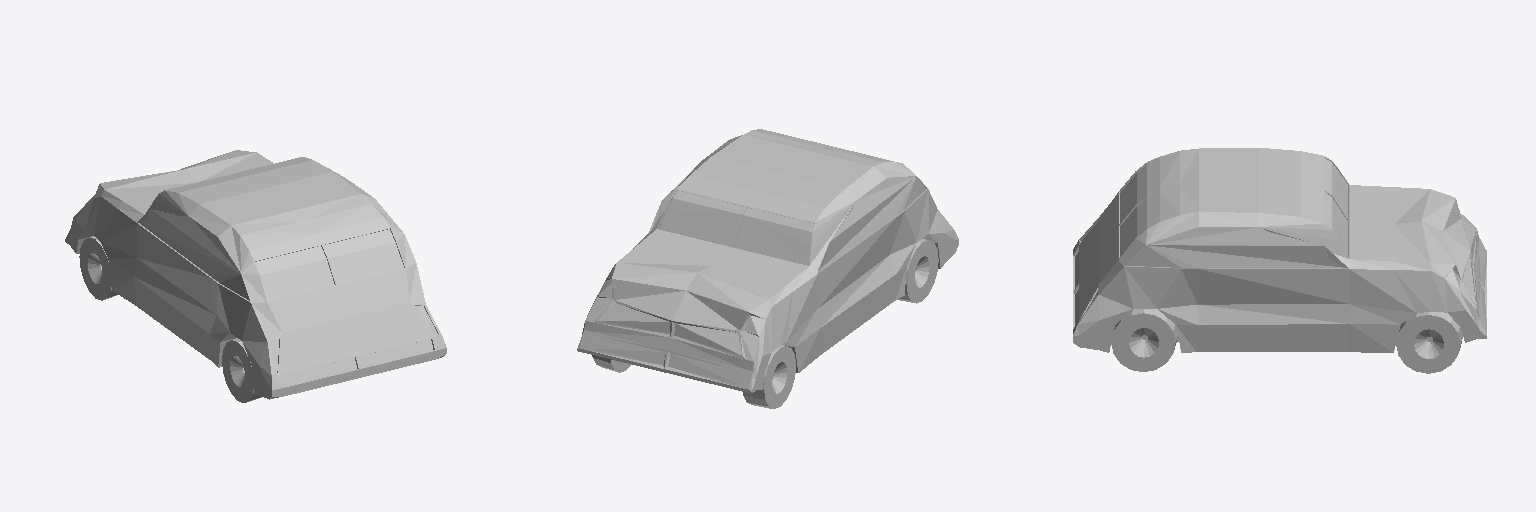
The model's file is car_enj_no_mirror.obj.
The picture shows the model from 3 angles: view 1: azimuth 30°, elevation 25°; view 2: azimuth 150°, elevation 25°; view 3: azimuth 270°, elevation 25°; orthographic projection.
Visible parts, largest first — view 1: Cube; view 2: Cube; view 3: Cube.
Part boxes in pixels (left/top/right/bottom): Cube: left=65, top=150, right=446, bottom=402; Cube: left=577, top=129, right=958, bottom=408; Cube: left=1073, top=148, right=1486, bottom=373.
Bounding box in the file's own units: 1.87 × 1.55 × 3.85.